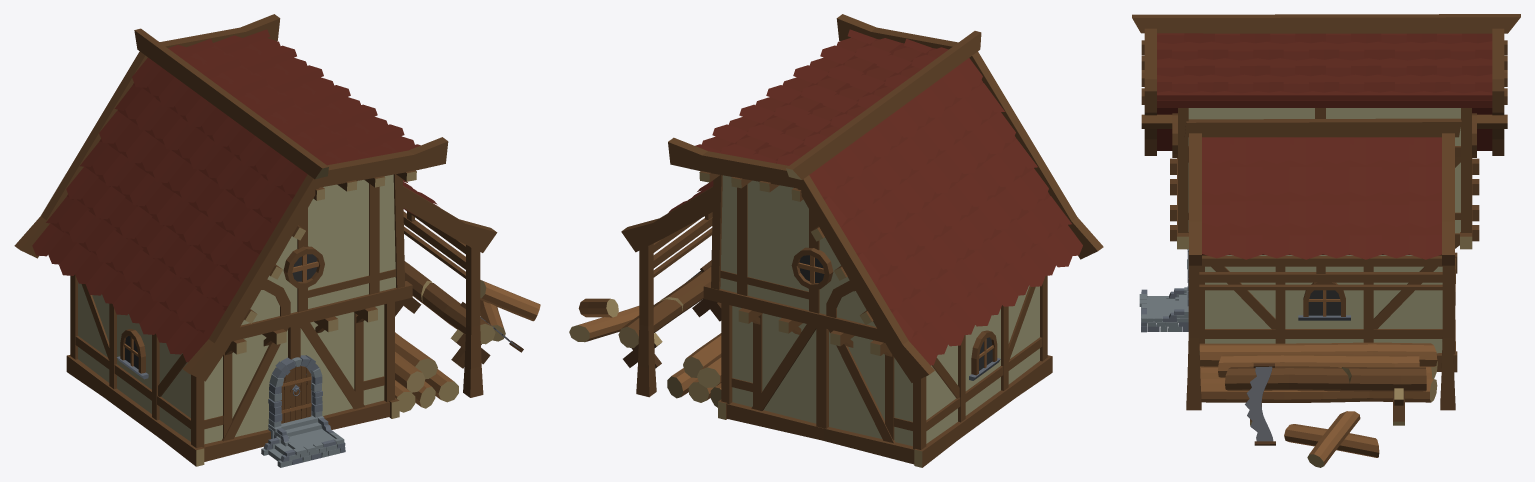
File: Sawmill_Baked.obj
The picture shows the model from 3 angles, left to right: view 1: azimuth 30°, elevation 25°; view 2: azimuth 150°, elevation 25°; view 3: azimuth 270°, elevation 25°; orthographic projection. The views are drawn at different scales.
Parts seen in each view (by area): view 1: Sawmill_Cube.047; view 2: Sawmill_Cube.047; view 3: Sawmill_Cube.047.
Boxes of the visible parts, left/top/right/bottom form: Sawmill_Cube.047: left=14, top=14, right=540, bottom=467; Sawmill_Cube.047: left=569, top=14, right=1103, bottom=467; Sawmill_Cube.047: left=1132, top=14, right=1520, bottom=467.
Size of the model in its own units: 4.4 by 2.86 by 3.28.
Materials: 1 (1 with a texture image).
